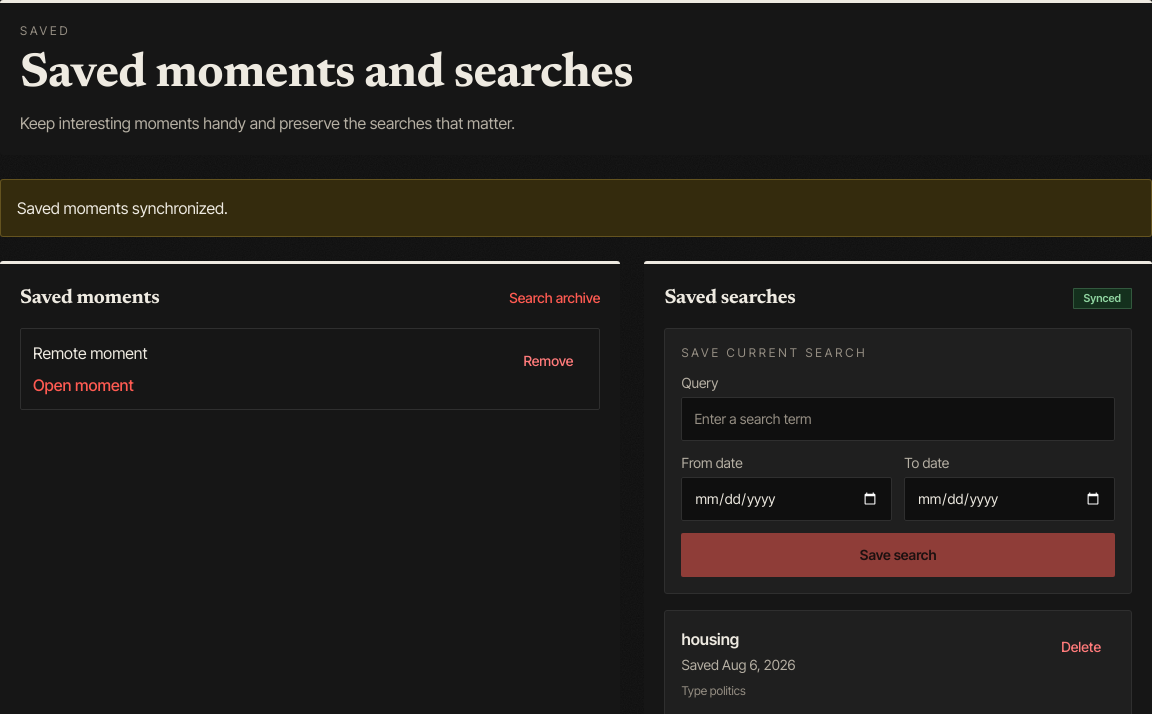
Test: FavoritesPage accessibility › renders and removes synchronized moments and searches
The image size is (1152, 714).
Expected: the text "Remote moment" is shown, [33,341,148,365]
Expected: the text "housing" is shown, [681,629,739,649]
What coordinates should you click on to do the following:
click the button "Remove"
I would click on:
 (548, 361)
Its box is [509,341,587,381].
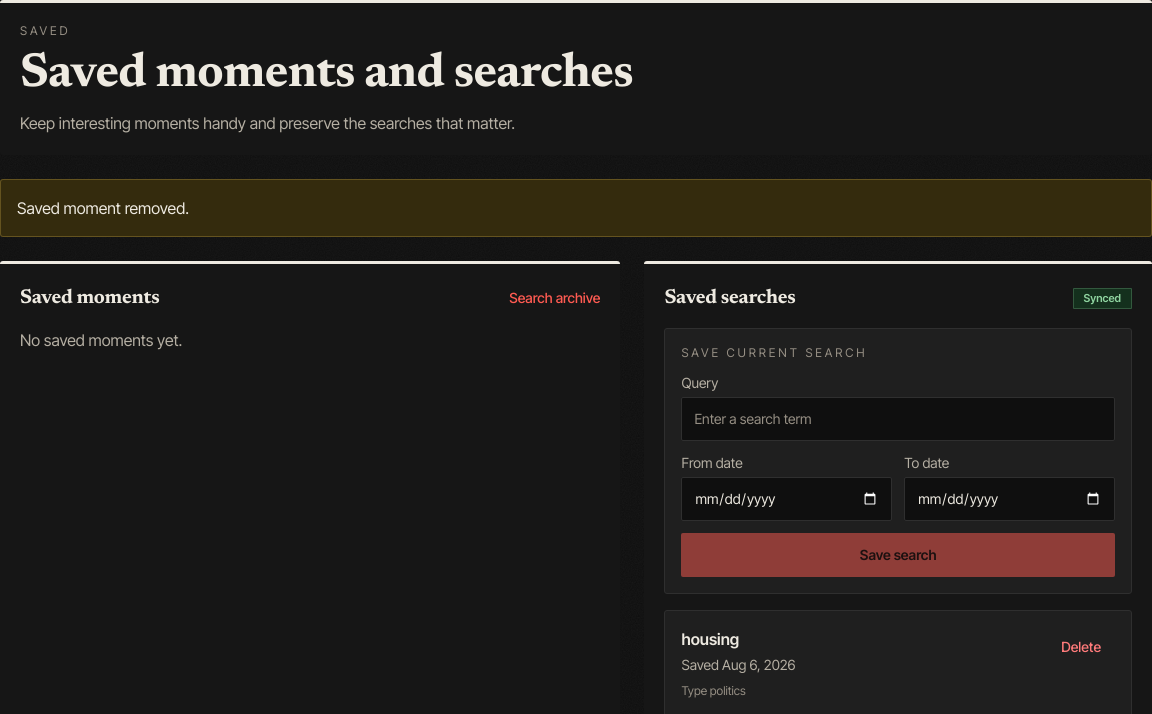
Expected: the text "No saved moments yet." is shown, [20,330,182,350]
Expected: the message reads "Saved moment removed.", [17,198,189,218]
What coordinates should you click on to do the following:
click the button "Delete"
I would click on:
 (1081, 647)
Its box is [1047,627,1115,667].
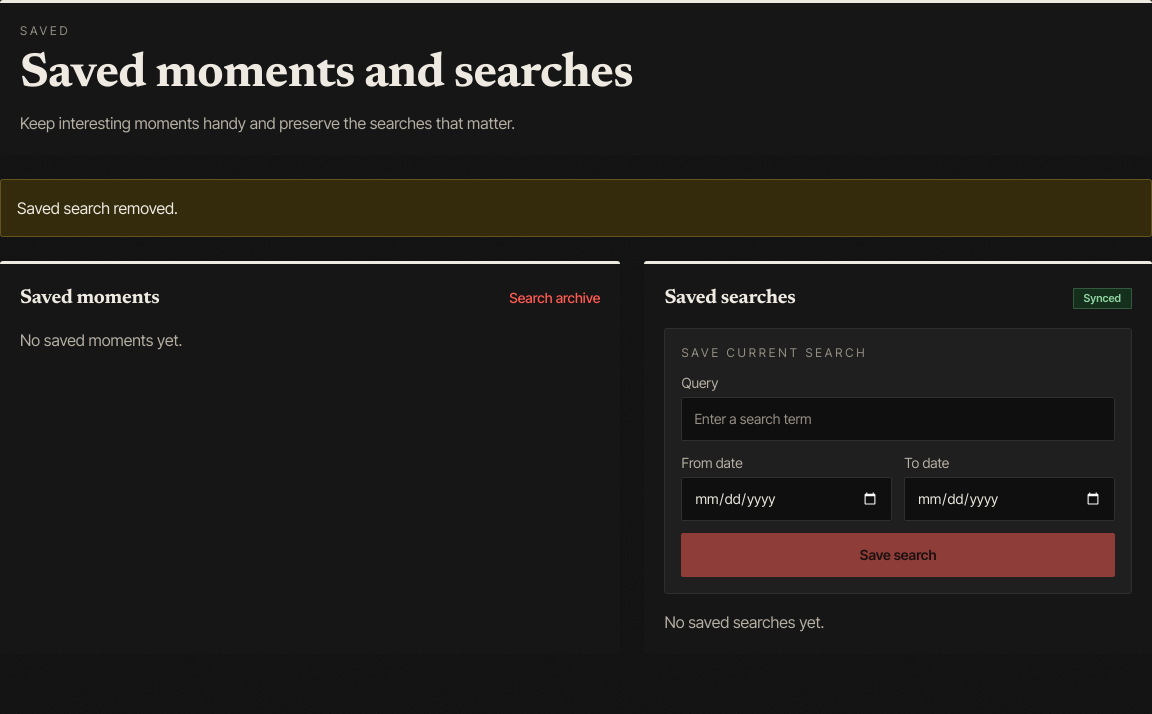
Expected: the text "No saved searches yet." is shown, [664,612,824,632]
Expected: the message reads "Saved search removed.", [17,198,178,218]
